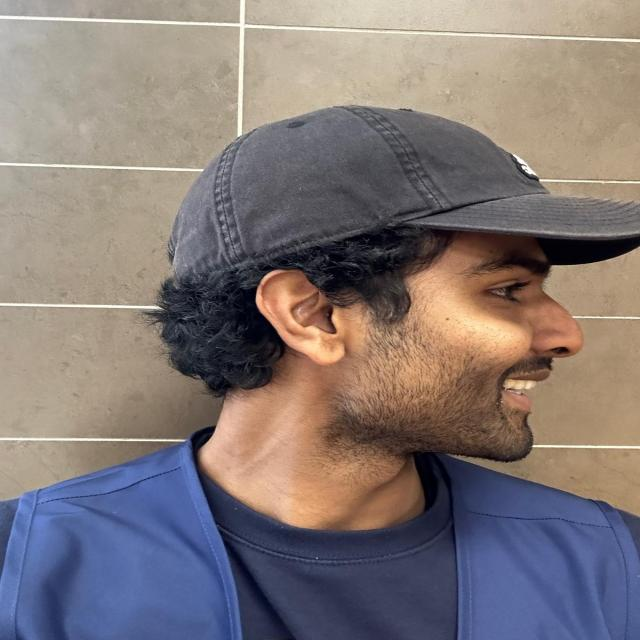cap: (127, 99, 636, 276)
